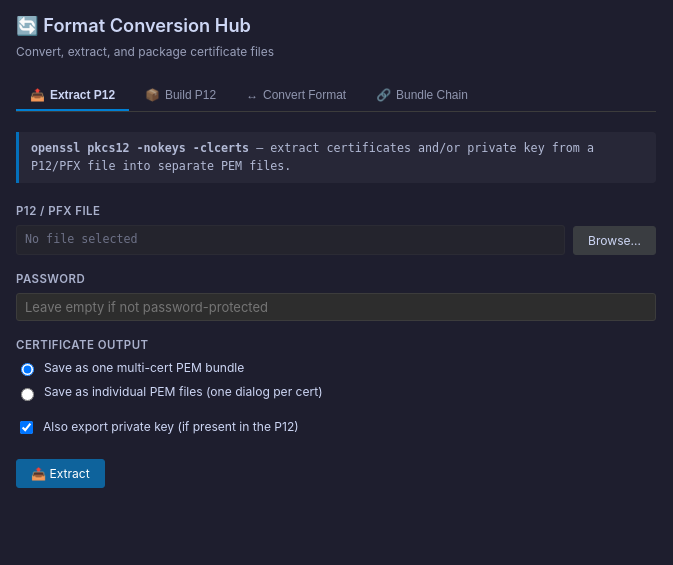
Test case: ConvertHub.svelte › renders error when extract is attempted without selected file
The image size is (673, 565).
What coordinates should you click on to do the following:
click the button "📤 Extract"
I would click on:
 (60, 473)
Its box is [16,459,105,488].
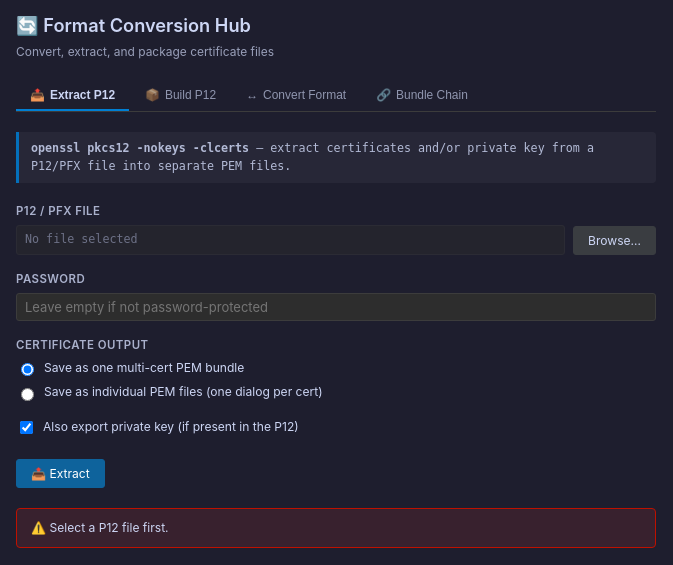
Now the text "⚠️ Select a P12 file first." is shown, box [16,508,656,548]
